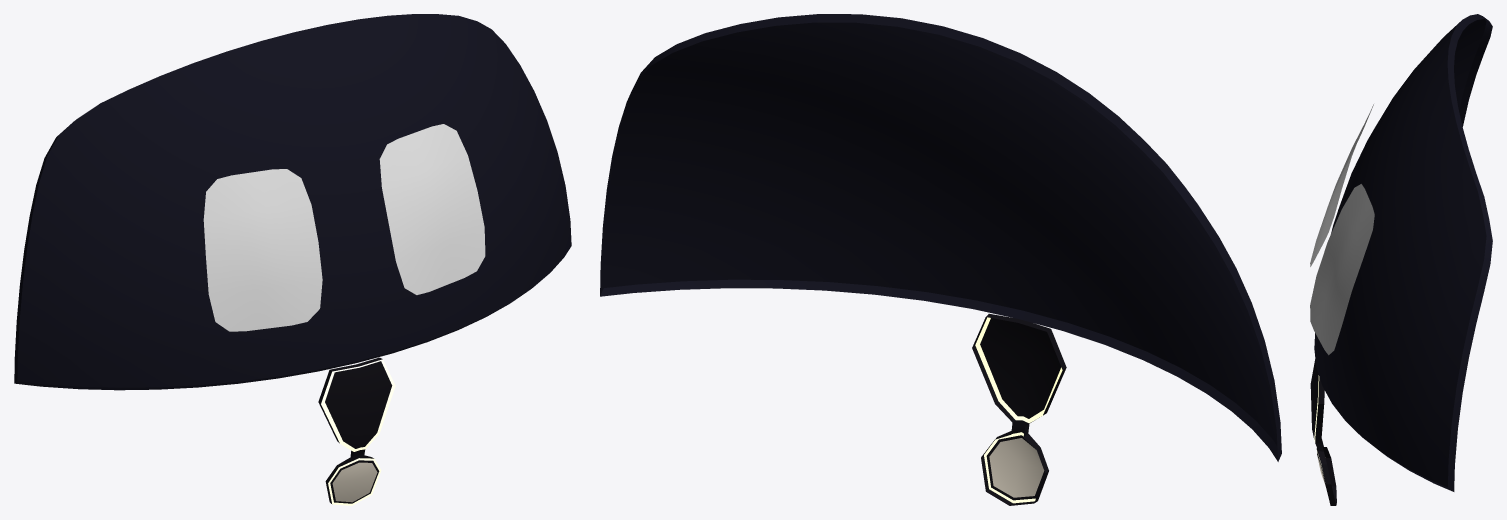
The model's file is Bunn-1tVisor.fbx.
The picture shows the model from 3 angles, left to right: view 1: azimuth 30°, elevation 25°; view 2: azimuth 150°, elevation 25°; view 3: azimuth 270°, elevation 25°; orthographic projection. The views are drawn at different scales.
Visible parts, largest first — view 1: Tela, Olhos; view 2: Tela; view 3: Tela, Olhos.
Boxes of the visible parts, bbox=[...] form: Tela: bbox=[14, 14, 571, 505]; Olhos: bbox=[203, 124, 485, 331]; Tela: bbox=[600, 14, 1281, 505]; Tela: bbox=[1310, 14, 1492, 505]; Olhos: bbox=[1310, 104, 1374, 355].
Size of the model in its own units: 10.91 by 8.12 by 3.07.
